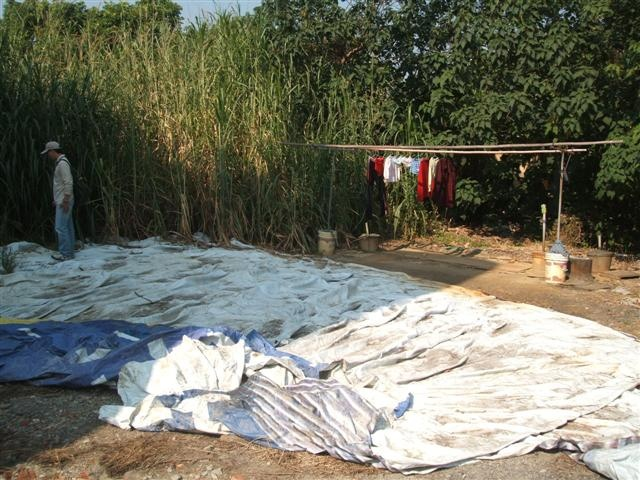bucket: (544, 252, 569, 284), (315, 230, 338, 256)
plastic_bag: (5, 244, 640, 474)
